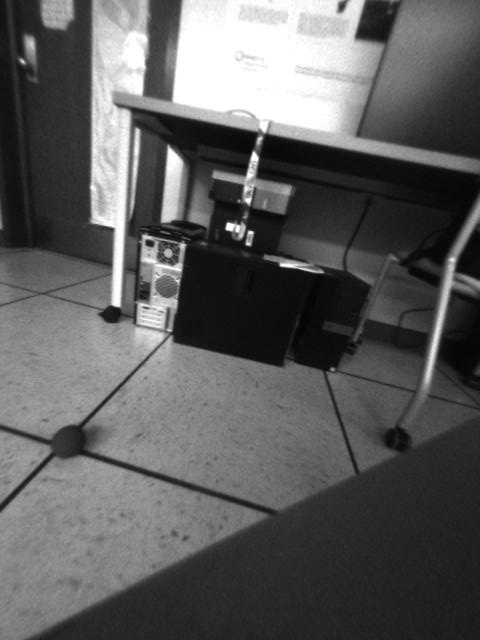dogtoy: (46, 419, 96, 463)
